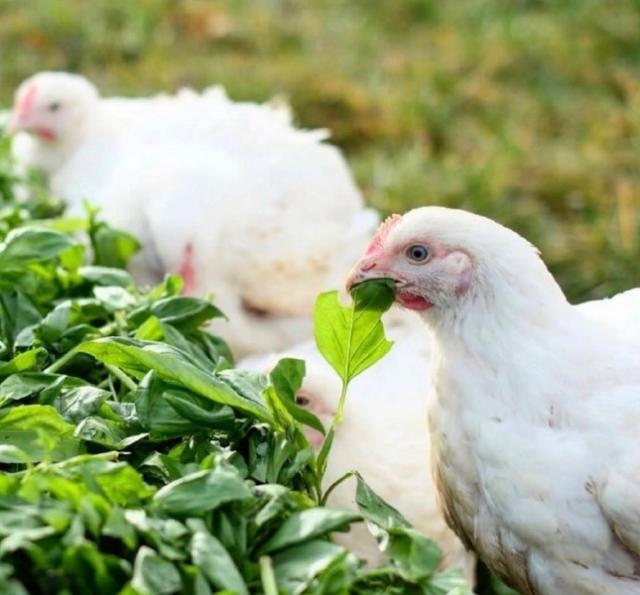Chicken: (347, 204, 640, 595), (6, 73, 382, 316)
